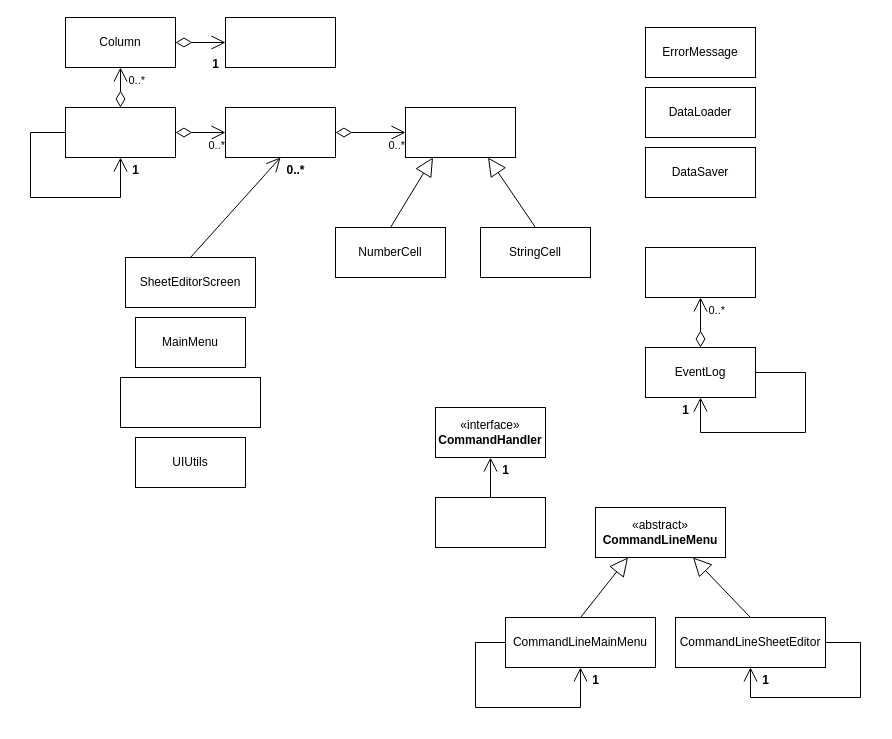
Image size: 892x739. Some labels were removed from this diagram. The shapes that lost their labels are listed below. From the top down, each one's centre as x and y in pixels, then its label:
At [280,42]: "DataType".
At [120,132]: "Sheet".
At [280,132]: "Row".
At [460,132]: "«abstract» Cell".
At [700,272]: "Event".
At [190,402]: "NewSheetInputForm".
At [490,522]: "MenuCommand".
